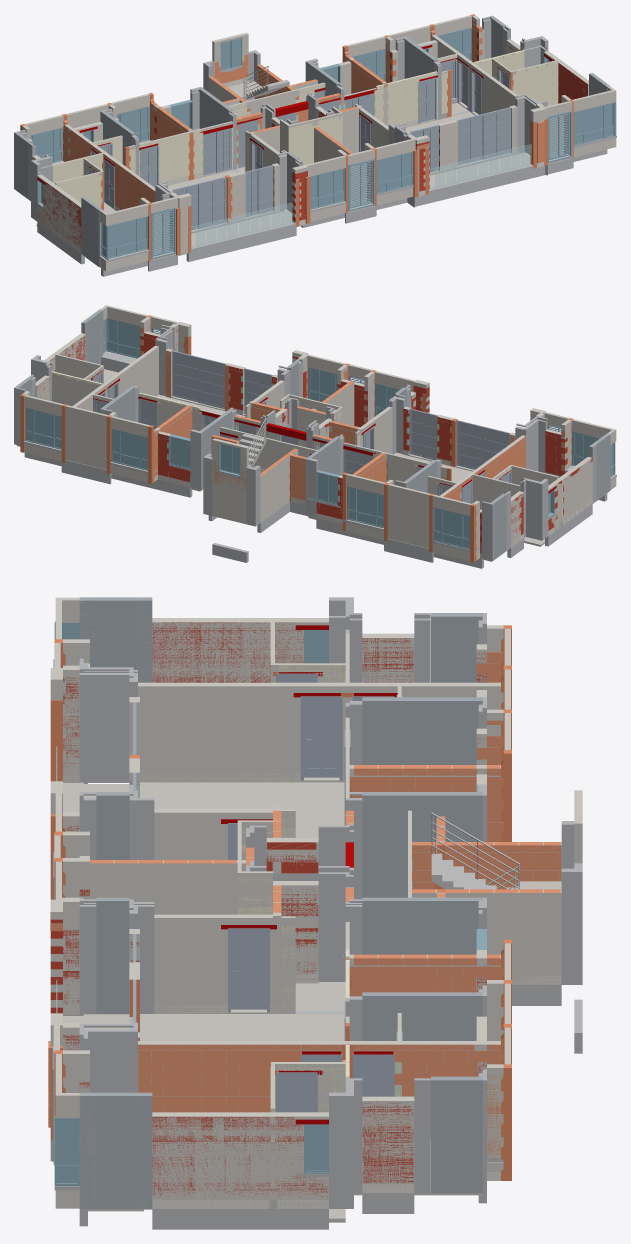
3 renders of one model, top to bottom at view 1: azimuth 30°, elevation 25°; view 2: azimuth 150°, elevation 25°; view 3: azimuth 270°, elevation 25°, orthographic. The views are drawn at different scales.
Visible parts, largest first — view 1: C_Q.001, C_W, C_M, C_QC__T100, C_Z.001, C_L, C_QC__T200, C_JL, C_GZ, C_B, C_G, C_QC__T250 (+5 smaller); view 2: C_Q.001, C_Z.001, C_W, C_M, C_JL, C_L, C_QC__T200, C_QC__T250, C_GZ, C_GL, C_B, C_QC__T100 (+1 smaller); view 3: C_Q.001, C_JL, C_Z.001, C_QC__T200, C_B, C_QC__T250, C_M, C_L, C_GZ, C_W, C_QC_F0, C_QC__T100 (+2 smaller).
Part boxes in pixels (x1,y1,x2,y2): C_Q.001: (22,15,616,271); C_W: (30,27,616,260); C_M: (90,59,510,230); C_QC__T100: (50,50,558,207); C_Z.001: (14,15,610,266); C_L: (37,67,616,276); C_QC__T200: (64,20,544,209); C_JL: (15,16,607,266); C_GZ: (20,14,573,261); C_B: (17,81,530,266); C_G: (191,144,531,246); C_QC__T250: (34,31,587,248); C_Q.001: (23,305,616,561); C_Z.001: (14,310,596,560); C_W: (25,318,615,549); C_M: (92,350,511,503); C_JL: (15,309,610,559); C_L: (24,352,616,568); C_QC__T200: (140,323,571,501); C_QC__T250: (37,329,592,553); C_GZ: (20,315,573,562); C_GL: (91,370,556,493); C_B: (17,369,606,561); C_QC__T100: (52,371,562,515); C_Q.001: (50,597,582,1208); C_JL: (79,597,482,1208); C_Z.001: (79,597,582,1208); C_QC__T200: (48,652,561,1158); C_B: (63,782,561,1222); C_QC__T250: (63,622,486,1198); C_M: (133,673,402,1112); C_L: (50,782,582,1229); C_GZ: (50,625,511,1180); C_W: (52,621,486,1185); C_QC_F0: (64,773,561,1208); C_QC__T100: (237,619,401,1187).
Bounding box in the file's own units: 28.4 × 6.1 × 12.85.
